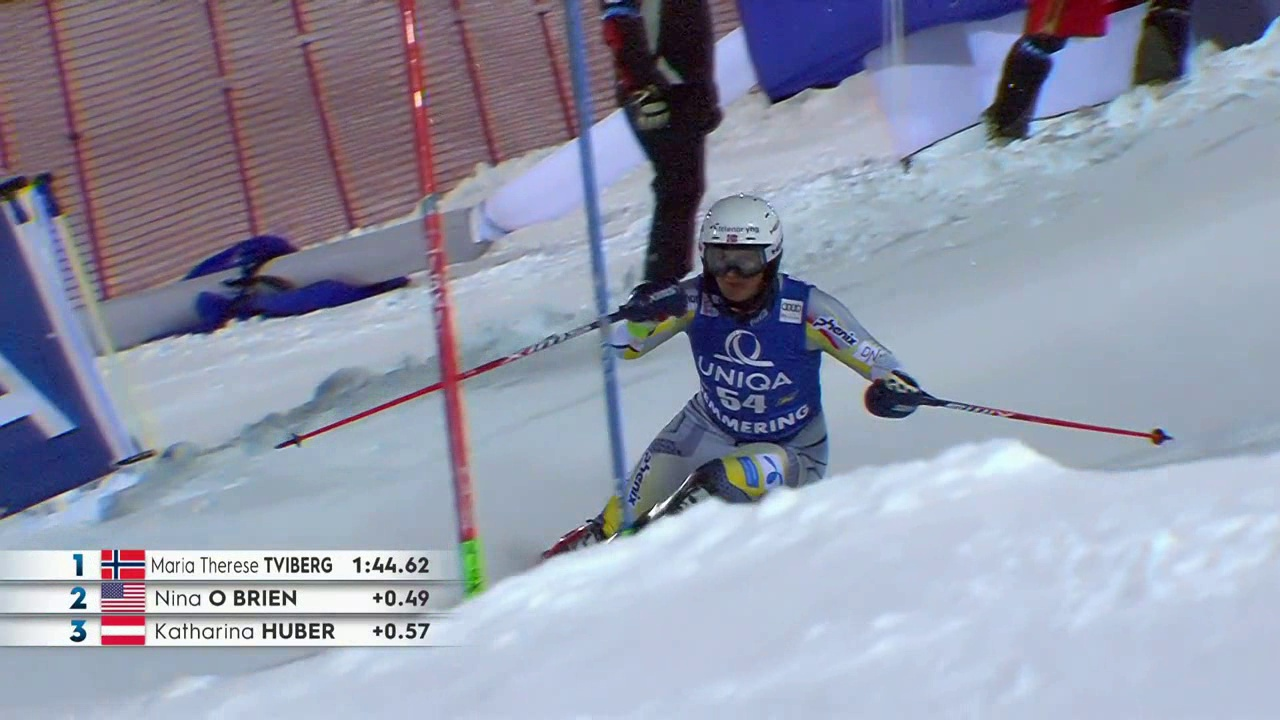uniqa: (701, 324, 795, 406)
